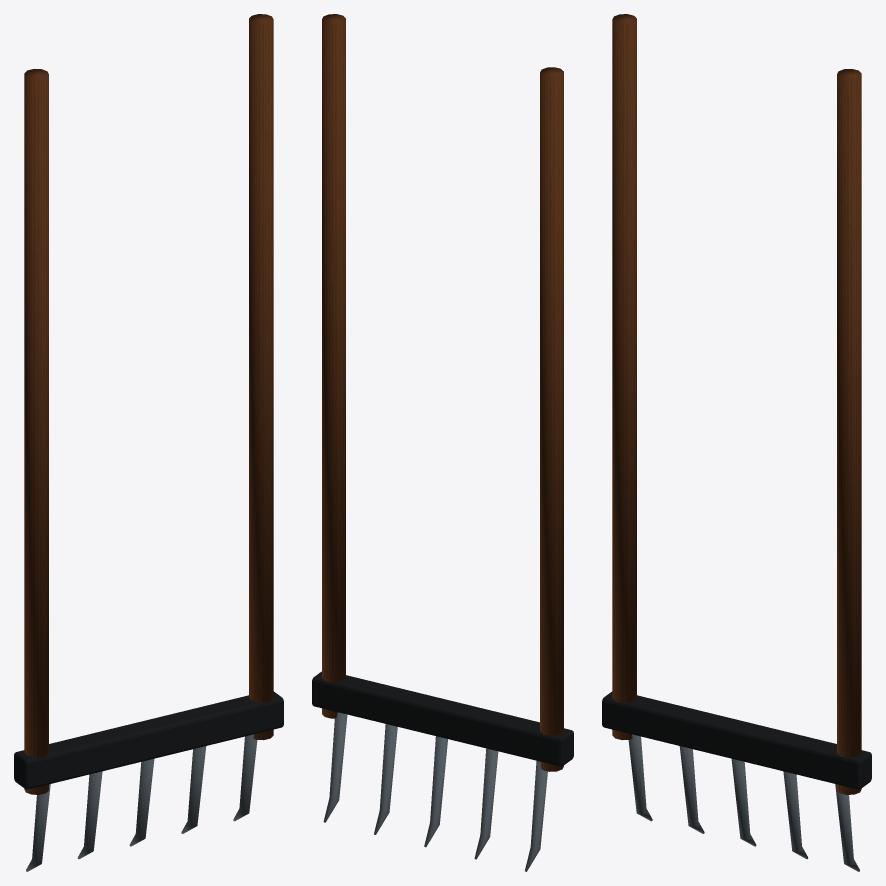
Rendered from Broadfork.gltf.
3 renders of one model, left to right at view 1: azimuth 30°, elevation 25°; view 2: azimuth 150°, elevation 25°; view 3: azimuth 330°, elevation 25°, orthographic. The views are drawn at different scales.
Parts seen in each view (by area): view 1: Broadfork__Body; view 2: Broadfork__Body; view 3: Broadfork__Body.
Part boxes in pixels (<box>): Broadfork__Body: <box>14,14,283,871</box>; Broadfork__Body: <box>312,14,573,871</box>; Broadfork__Body: <box>602,14,871,871</box>.
Size of the model in its own units: 0.504 by 1.51 by 0.0853.
1 material, 1 textured.
